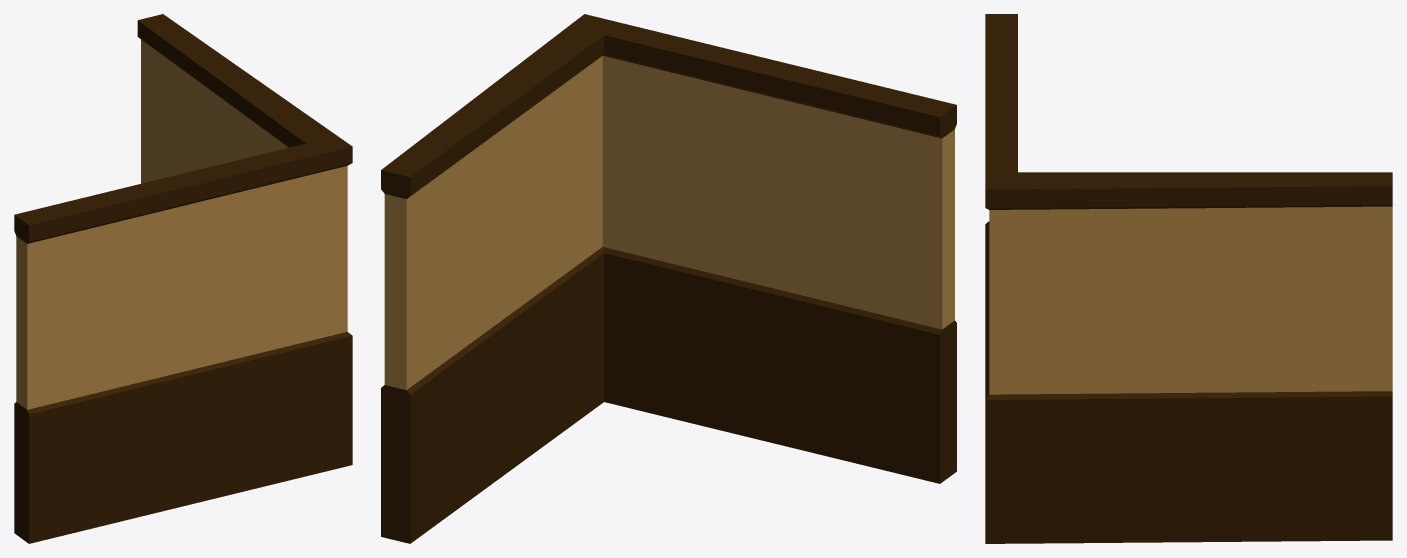
The model's file is Classic_Wall_Corner_snaps001.fbx.
The picture shows the model from 3 angles, left to right: view 1: azimuth 30°, elevation 25°; view 2: azimuth 150°, elevation 25°; view 3: azimuth 270°, elevation 25°; orthographic projection. The views are drawn at different scales.
Visible parts, largest first — view 1: Classic_Wall_Corner_snaps001; view 2: Classic_Wall_Corner_snaps001; view 3: Classic_Wall_Corner_snaps001.
Boxes of the visible parts, x1,y1,x2,y2 form: Classic_Wall_Corner_snaps001: (14,14,352,543); Classic_Wall_Corner_snaps001: (381,14,956,543); Classic_Wall_Corner_snaps001: (985,14,1392,543).
Size of the model in its own units: 319 by 300 by 313.
